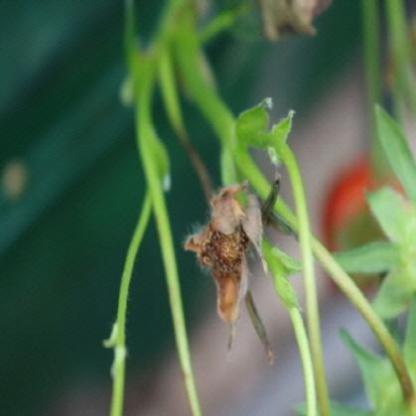Strawberry_Gray_Mold: (182, 178, 268, 354)
